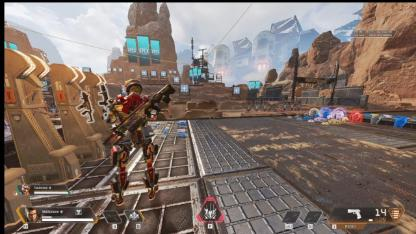Target: (108, 78, 160, 202), (277, 104, 281, 114)
